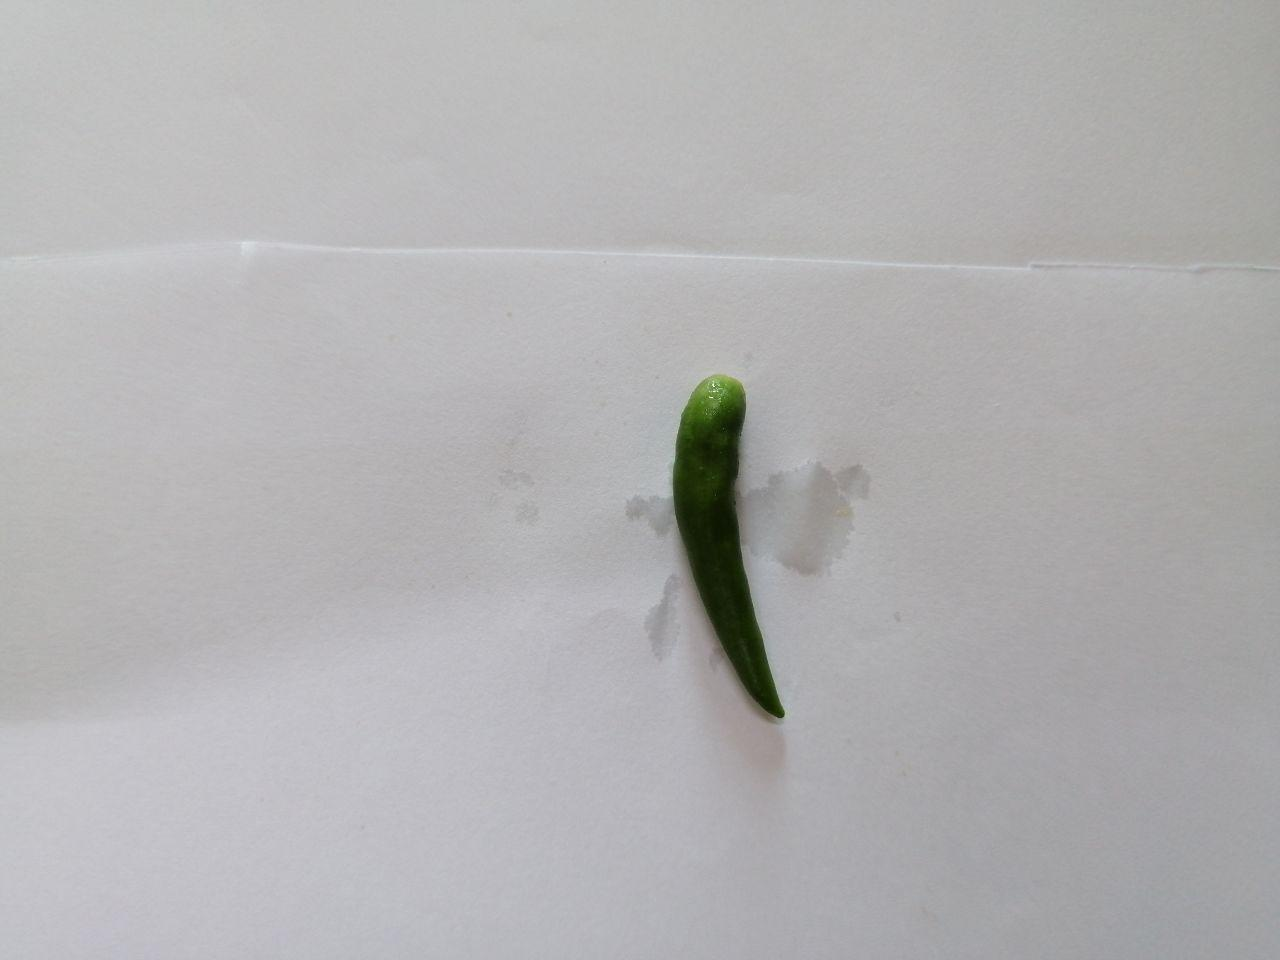lada hijau: (634, 347, 850, 767)
